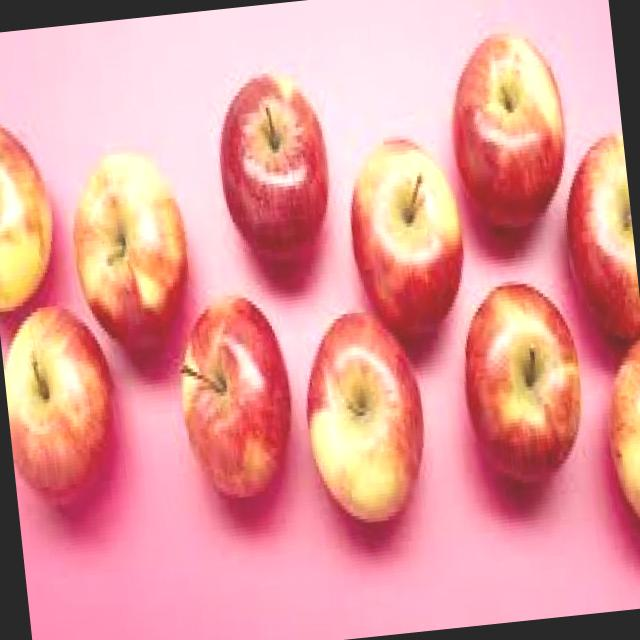Apple: (295, 302, 435, 528), (64, 143, 198, 364), (456, 274, 592, 488), (342, 126, 474, 346), (442, 23, 576, 236), (172, 286, 302, 502), (210, 64, 340, 272), (0, 296, 126, 508), (556, 127, 640, 347), (0, 111, 63, 312), (598, 335, 640, 541)
